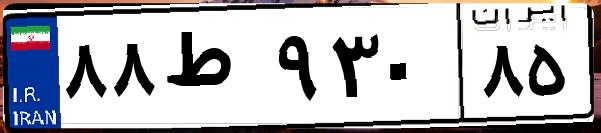0: (385, 28, 445, 110)
3: (330, 28, 385, 110)
5: (525, 38, 570, 115)
8: (57, 26, 110, 100), (475, 38, 525, 113), (110, 28, 158, 98)
9: (270, 28, 330, 110)
ط: (158, 20, 270, 120)
